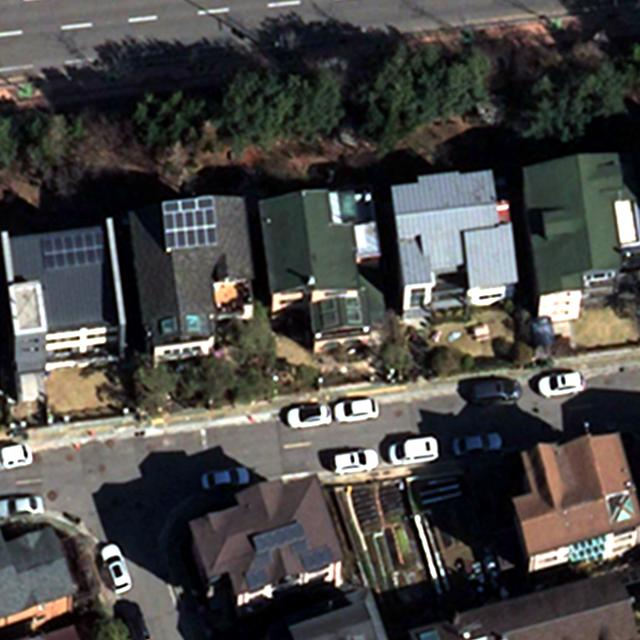panel: (159, 194, 222, 252), (40, 225, 111, 269)
